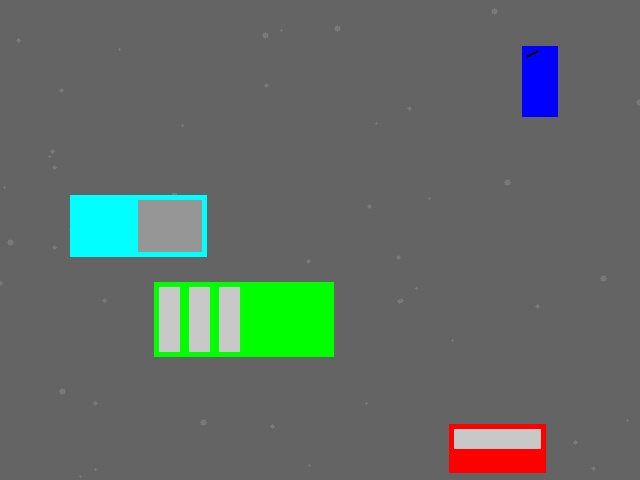bus: (154, 282, 333, 356)
car: (449, 424, 545, 472)
motorcycle: (522, 46, 557, 116)
truck: (70, 195, 206, 256)
